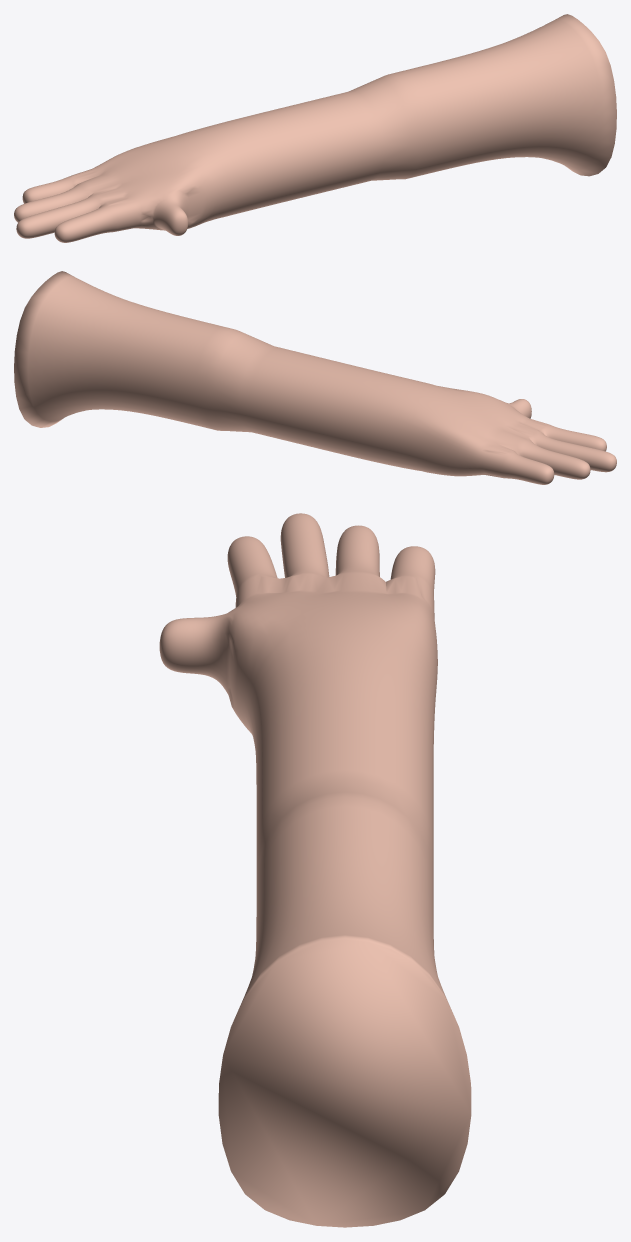
The model's file is canhtay.glb.
3 renders of one model, top to bottom at view 1: azimuth 30°, elevation 25°; view 2: azimuth 150°, elevation 25°; view 3: azimuth 270°, elevation 25°, orthographic. The views are drawn at different scales.
Parts seen in each view (by area): view 1: Body; view 2: Body; view 3: Body.
Boxes of the visible parts, <box> form: Body: <box>14,14,616,242</box>; Body: <box>14,271,616,484</box>; Body: <box>159,513,471,1227</box>.
Size of the model in its own units: 1.03 by 0.2566 by 0.2481.
